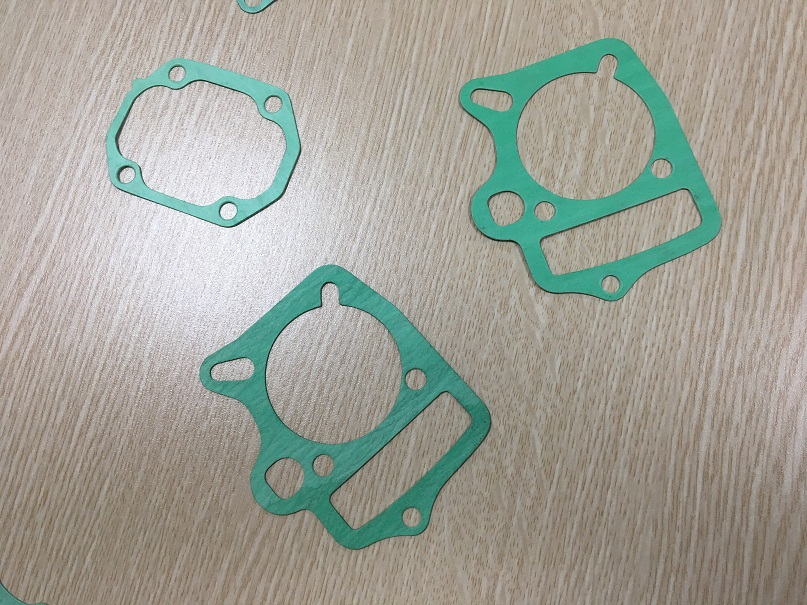type2: (96, 49, 316, 233)
type4: (191, 251, 496, 556), (454, 34, 730, 302)
